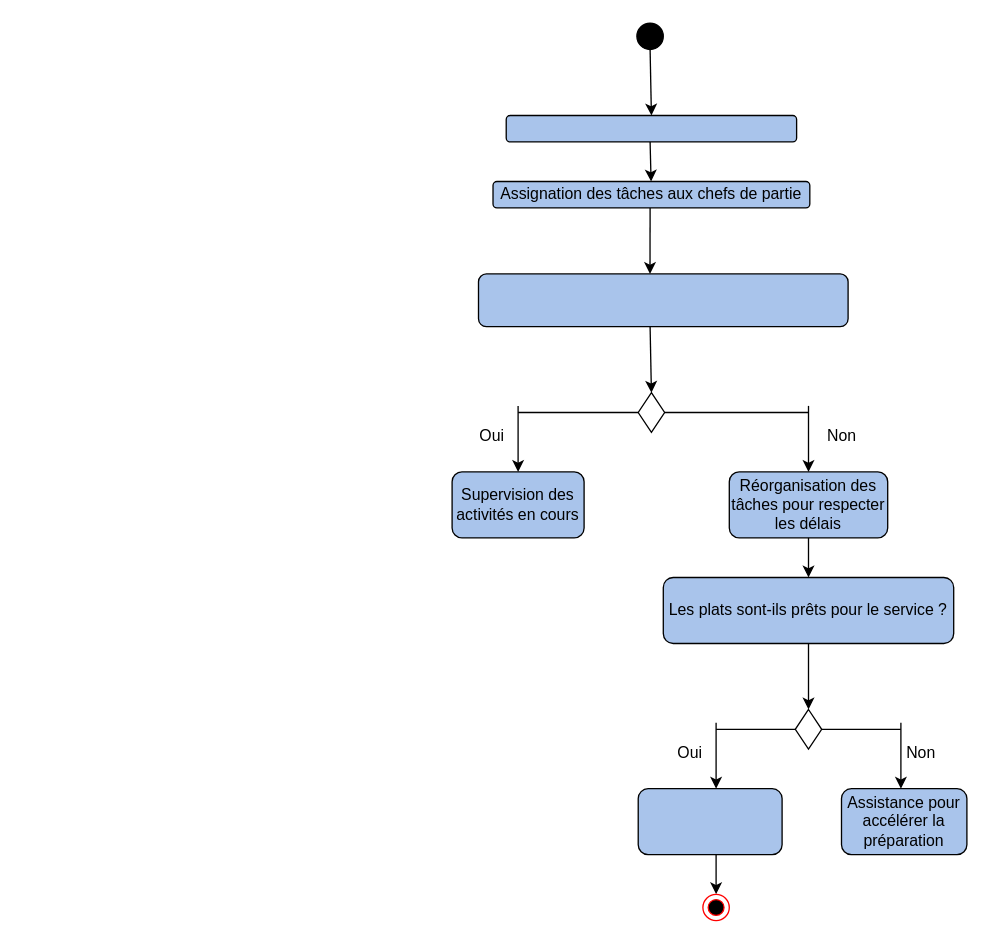
The diagram is 990 pixels wide and 944 high, and some of its shapes have lost their labels. The centre of each missing label's shape, as x and y in pixels:
"Coordination avec le service en salle" goes at [709,821].
"Les commandes sont-elles en cours de traitement?" goes at [662,300].
"Planification des tâches en cuisine" goes at [651,128].
